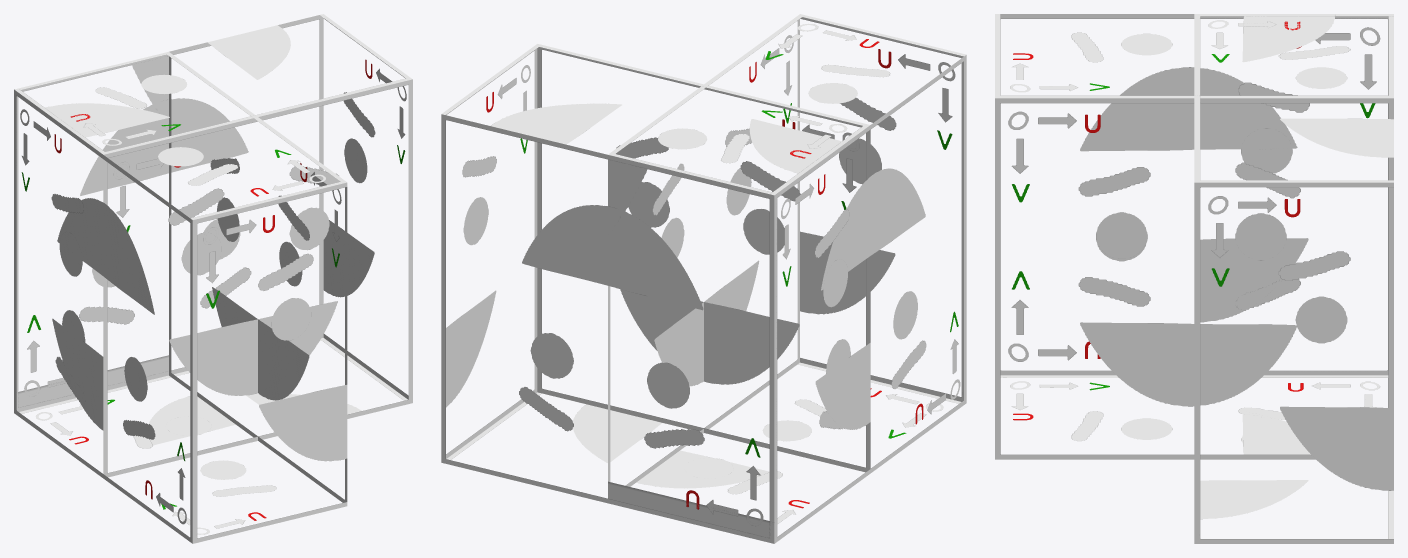
The model's file is corner.fbx.
The picture shows the model from 3 angles, left to right: view 1: azimuth 30°, elevation 25°; view 2: azimuth 150°, elevation 25°; view 3: azimuth 270°, elevation 25°; orthographic projection. The views are drawn at different scales.
Visible parts, largest first — view 1: pCube1, pCube2; view 2: pCube1, pCube2; view 3: pCube2, pCube1.
Part boxes in pixels (<box>): pCube1: <box>14,14,412,477</box>; pCube2: <box>14,51,347,543</box>; pCube1: <box>441,44,870,543</box>; pCube2: <box>608,14,966,543</box>; pCube2: <box>995,14,1393,459</box>; pCube1: <box>1194,14,1393,543</box>.
Bounding box in the file's own units: 1 × 1 × 1.
